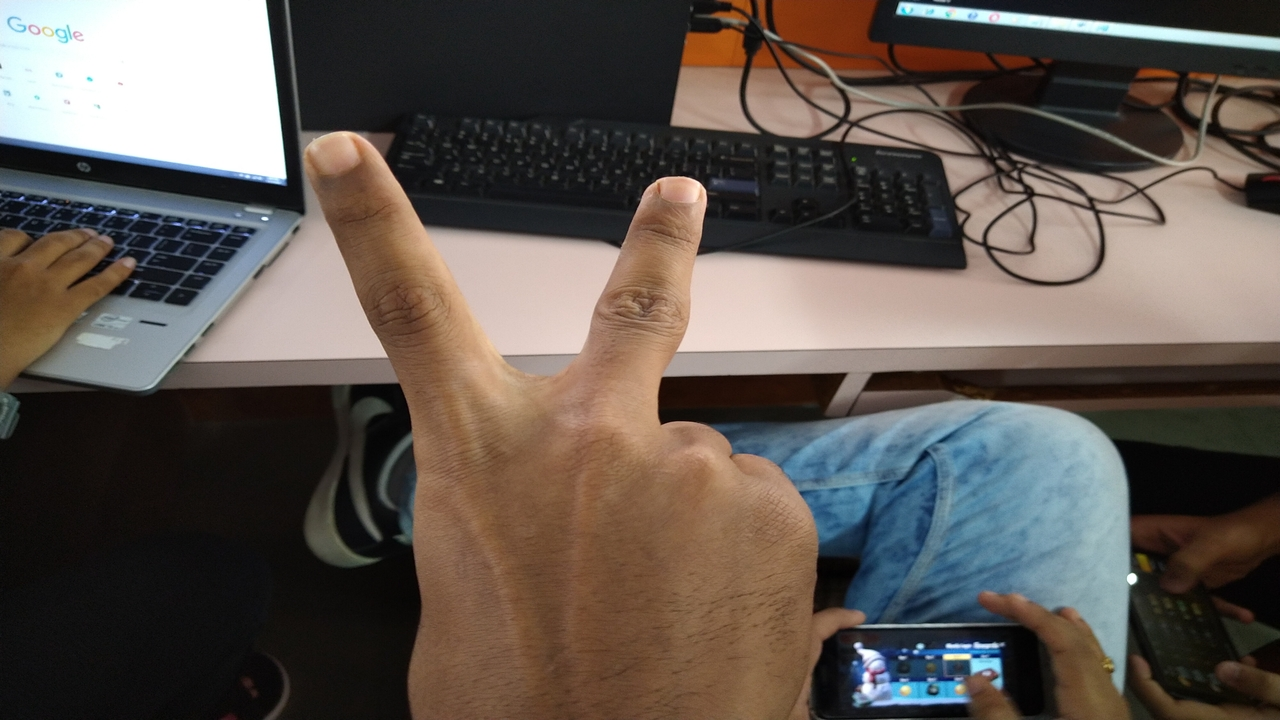fingertip: (284, 130, 378, 198), (632, 172, 714, 226)
